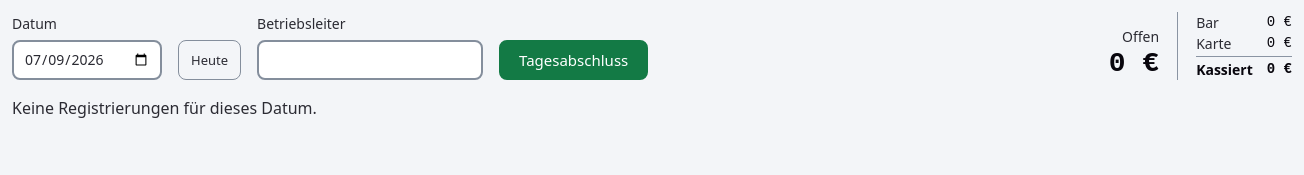
List › Betriebsleiter › does not export when the name could not be saved
Step 1. Type "Max Muster" into the field labelled "Betriebsleiter" → [370, 60], box top-left (257, 40), bottom-right (483, 80)
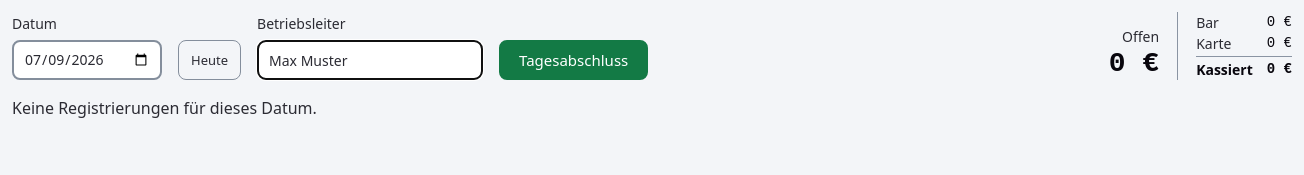
Step 2. Click the button "Tagesabschluss" → [574, 60], box top-left (499, 40), bottom-right (648, 80)
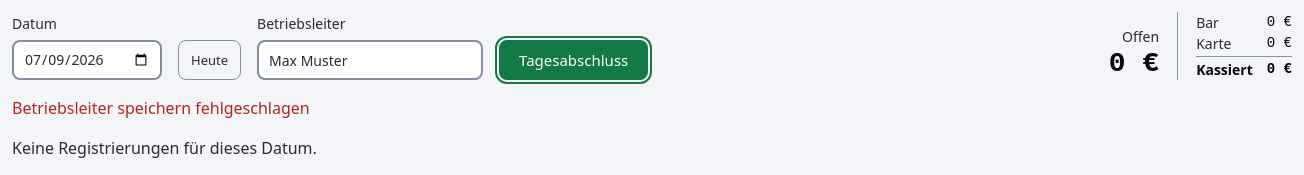
Expected: the text "Betriebsleiter speichern fehlgeschlagen" is shown, top-left (12, 97), bottom-right (310, 119)
